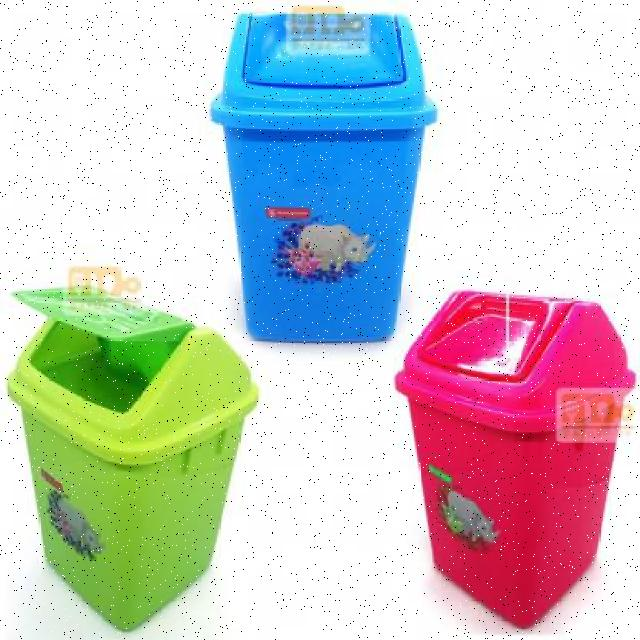garbage container: (1, 280, 268, 638), (393, 287, 639, 638), (198, 5, 424, 363)
